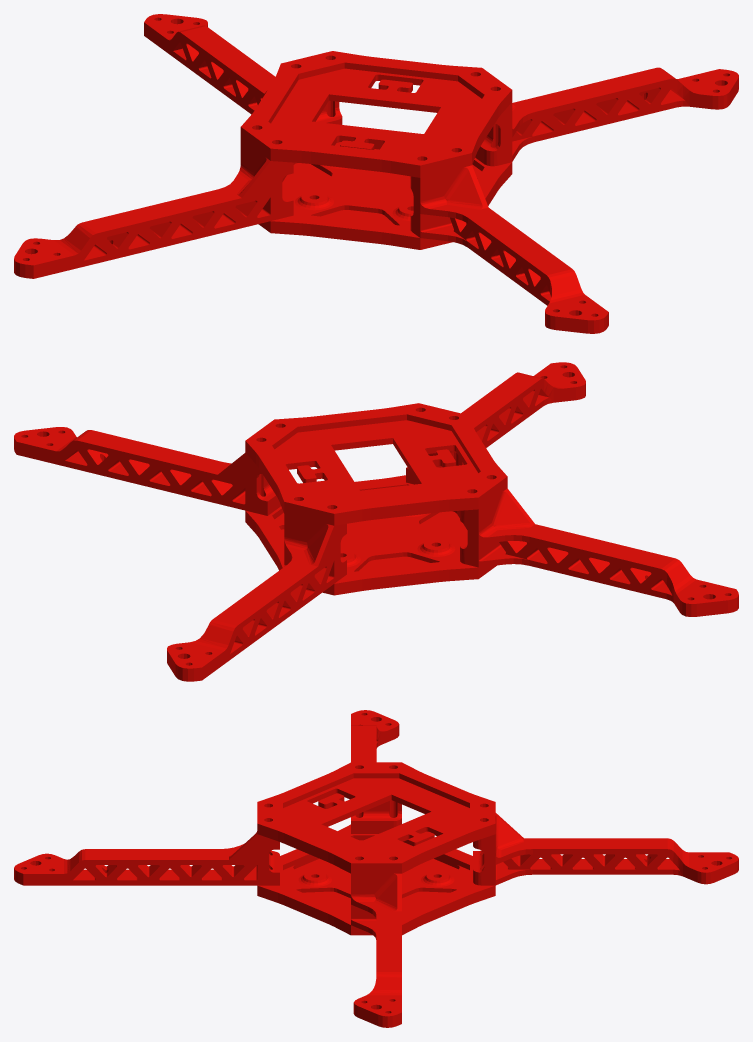
File: main_body_urss.dae
3 renders of one model, top to bottom at view 1: azimuth 30°, elevation 25°; view 2: azimuth 150°, elevation 25°; view 3: azimuth 270°, elevation 25°, orthographic. The views are drawn at different scales.
Visible parts, largest first — view 1: main_body; view 2: main_body; view 3: main_body.
Boxes of the visible parts, x1,y1,x2,y2 form: main_body: [14, 14, 738, 333]; main_body: [14, 362, 738, 681]; main_body: [14, 710, 738, 1027].
Bounding box in the file's own units: 0.2555 × 0.2555 × 0.0281.
